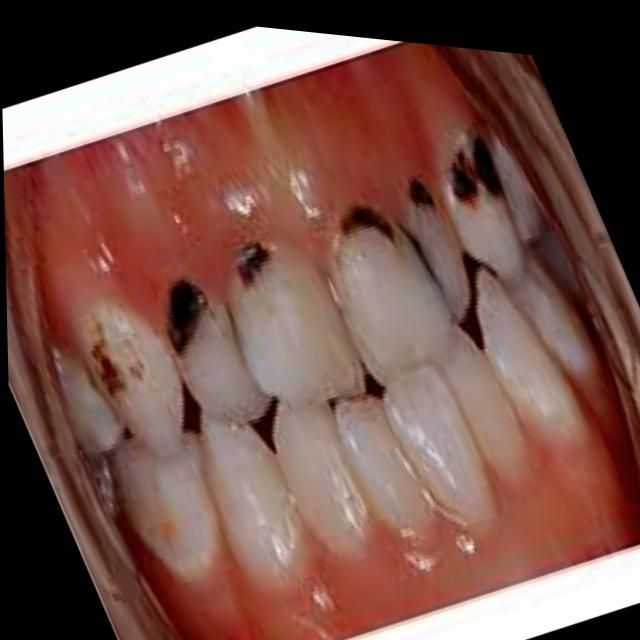cariess: (449, 133, 511, 255), (399, 178, 460, 267), (168, 278, 208, 351), (344, 203, 392, 233), (239, 242, 267, 275)
